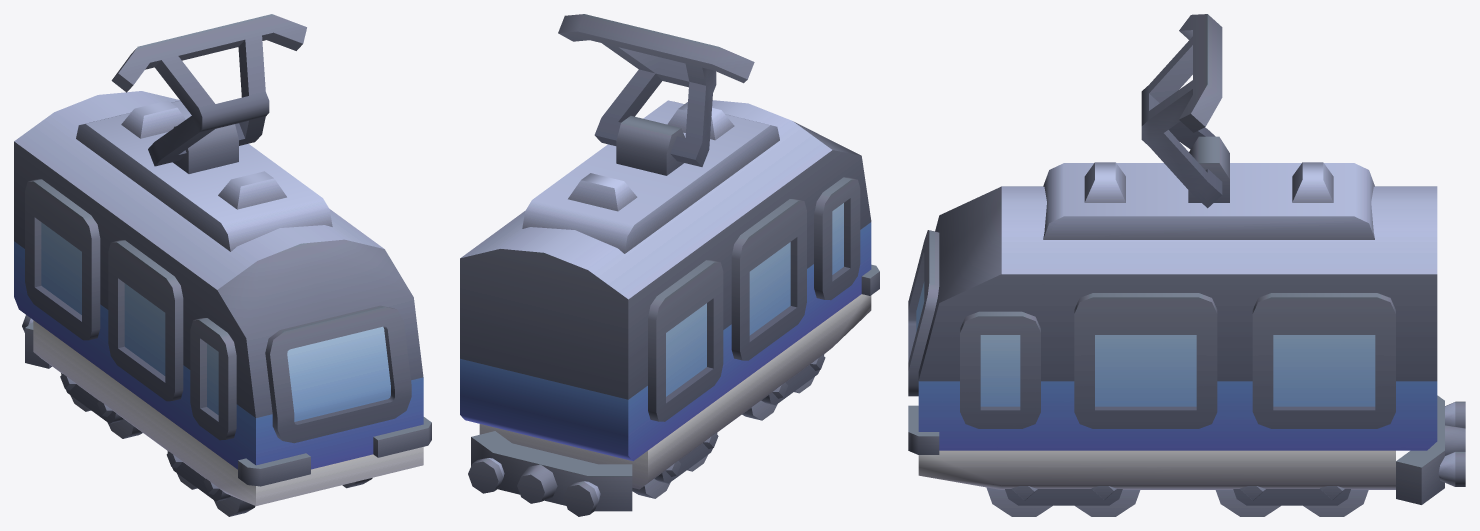
The model's file is k-train-train-tram-modern.glb.
3 views of the same model, side by side, from view 1: azimuth 30°, elevation 25°; view 2: azimuth 150°, elevation 25°; view 3: azimuth 270°, elevation 25° (orthographic). The views are drawn at different scales.
Parts seen in each view (by area): view 1: train-tram-modern, collector, wheels-front, wheels-back; view 2: train-tram-modern, collector, wheels-back, wheels-front; view 3: train-tram-modern, collector, wheels-front, wheels-back.
Part boxes in pixels (left/top/right/bottom): train-tram-modern: left=14, top=91, right=431, bottom=505; collector: left=111, top=14, right=306, bottom=166; wheels-front: left=166, top=451, right=372, bottom=516; wheels-back: left=60, top=373, right=142, bottom=438; train-tram-modern: left=460, top=100, right=879, bottom=516; collector: left=558, top=14, right=754, bottom=166; wheels-back: left=632, top=433, right=718, bottom=498; wheels-front: left=742, top=354, right=825, bottom=420; train-tram-modern: left=908, top=136, right=1465, bottom=504; collector: left=1141, top=14, right=1222, bottom=208; wheels-front: left=986, top=486, right=1140, bottom=516; wheels-back: left=1215, top=486, right=1368, bottom=516.
Bounding box in the file's own units: 1.13 × 2.3 × 2.69.
1 material, 1 textured.
